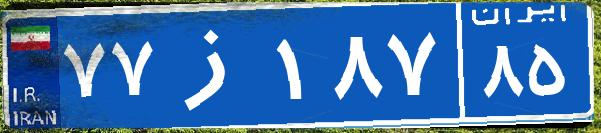1: (273, 28, 330, 110)
5: (525, 38, 570, 115)
7: (385, 28, 445, 110), (57, 26, 110, 107), (110, 28, 158, 105)
8: (330, 28, 385, 110), (475, 38, 525, 113)
ز: (158, 15, 273, 115)
